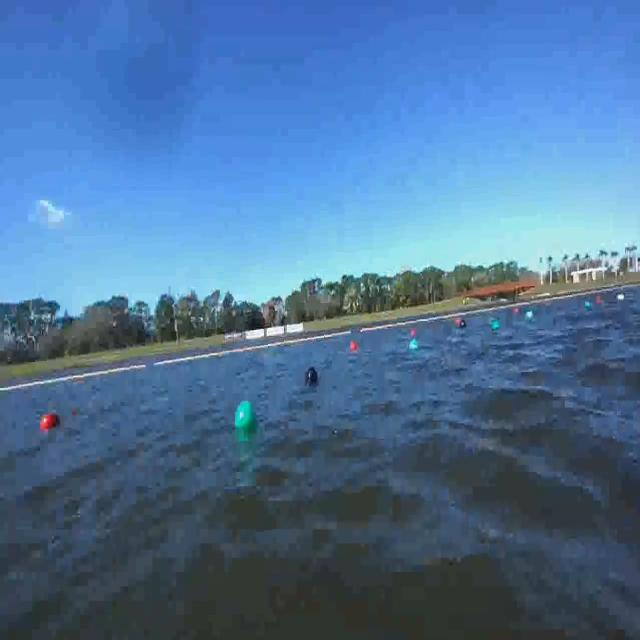black-buoy: (305, 366, 320, 386)
green-buoy: (234, 403, 253, 433), (410, 339, 420, 353)
red-buoy: (40, 414, 59, 432), (350, 342, 358, 352)
